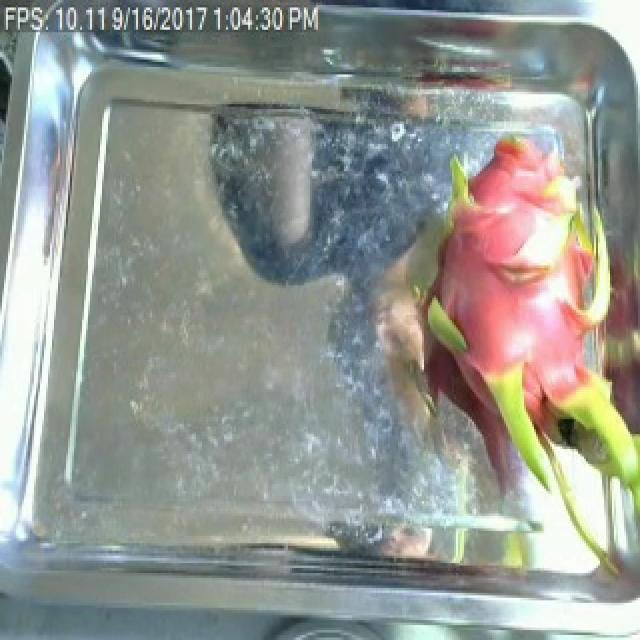fruit: (382, 134, 640, 556)
